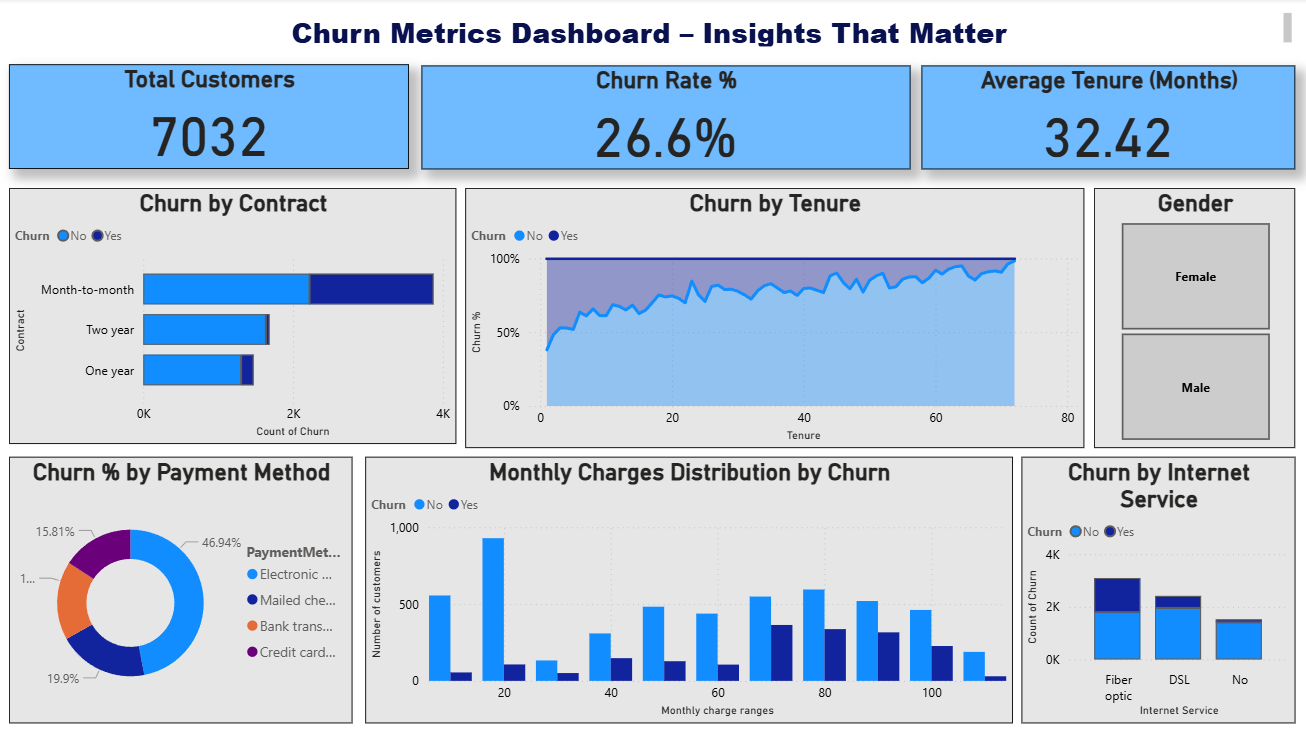

Layout of this report page (visuals, bound fields, positions):
{"tool":"powerbi","page":{"name":"Page 1","canvas":[1280,720],"ordinal":0},"visuals":[{"type":"card","title":"Total Customers","fields":{"Values":["CountNonNull(churn_cleaned_data.customerID)"]},"box":[9.8,64.8,391.3,102.7],"z":0},{"type":"card","title":"Churn Rate %","fields":{"Values":["churn_cleaned_data.Churn Rate %"]},"box":[413.3,66,478.1,101.5],"z":1000},{"type":"card","title":"Average Tenure (Months)","fields":{"Values":["Avg(churn_cleaned_data.tenure)"]},"box":[902.5,66,365.6,101.5],"z":2000},{"type":"columnChart","title":"Churn by Internet Service","fields":{"Category":["churn_cleaned_data.InternetService"],"Y":["CountNonNull(churn_cleaned_data.Churn)"],"Series":["churn_cleaned_data.Churn"]},"box":[1000.3,448.8,267.8,260.5],"z":4000},{"type":"barChart","title":"Churn by Contract","fields":{"Category":["churn_cleaned_data.Contract"],"Y":["CountNonNull(churn_cleaned_data.Churn)"],"Series":["churn_cleaned_data.Churn"]},"box":[9.8,185.9,437.8,250.7],"z":4001},{"type":"donutChart","title":"Churn % by Payment Method","fields":{"Category":["churn_cleaned_data.PaymentMethod"],"Y":["churn_cleaned_data.Churn Rate by PaymentMethod"]},"box":[9.8,448.8,336.3,260.5],"z":4002},{"type":"hundredPercentStackedAreaChart","title":"Churn by Tenure","fields":{"Category":["churn_cleaned_data.tenure"],"Y":["CountNonNull(churn_cleaned_data.Churn)"],"Series":["churn_cleaned_data.Churn"]},"box":[456.1,185.9,605.3,254.3],"z":4003},{"type":"clusteredColumnChart","title":"Monthly Charges Distribution by Churn","fields":{"Category":["churn_cleaned_data.MonthlyCharges Bins"],"Y":["CountNonNull(churn_cleaned_data.Churn)"],"Series":["churn_cleaned_data.Churn"]},"box":[358.3,448.8,633.4,260.5],"z":4004},{"type":"slicer","title":"Gender","fields":{"Values":["churn_cleaned_data.gender"]},"box":[1071.2,185.9,196.9,254.3],"z":4005},{"type":"textbox","box":[11,9.8,1258.3,42.8],"z":4006}]}

Visuals, with their boxes in screenshot pixels (x1, y1, x2, y2), scaled from the page's 1280x720 canvas onto the 1306x733 screenshot:
"Total Customers" card: detection(10, 66, 409, 171)
"Churn Rate %" card: detection(422, 67, 910, 171)
"Average Tenure (Months)" card: detection(921, 67, 1294, 171)
"Churn by Internet Service" columnChart: detection(1021, 457, 1294, 722)
"Churn by Contract" barChart: detection(10, 189, 457, 444)
"Churn % by Payment Method" donutChart: detection(10, 457, 353, 722)
"Churn by Tenure" hundredPercentStackedAreaChart: detection(465, 189, 1083, 448)
"Monthly Charges Distribution by Churn" clusteredColumnChart: detection(366, 457, 1012, 722)
"Gender" slicer: detection(1093, 189, 1294, 448)
textbox: detection(11, 10, 1295, 54)
